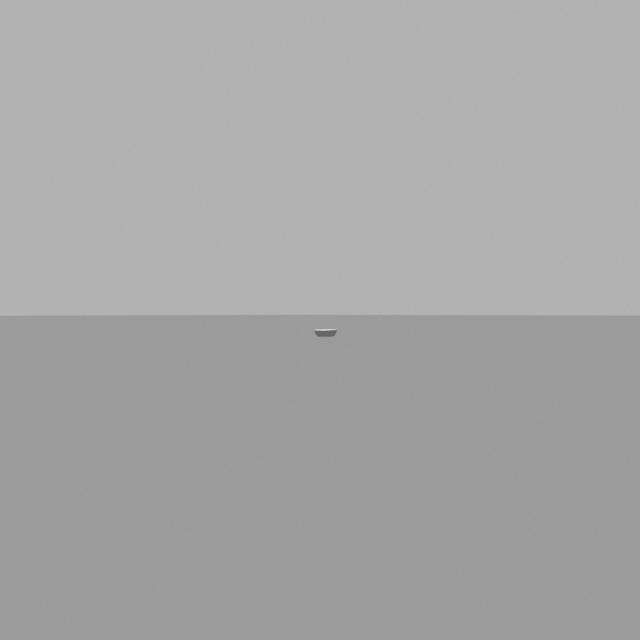bowl: (304, 315, 346, 350)
